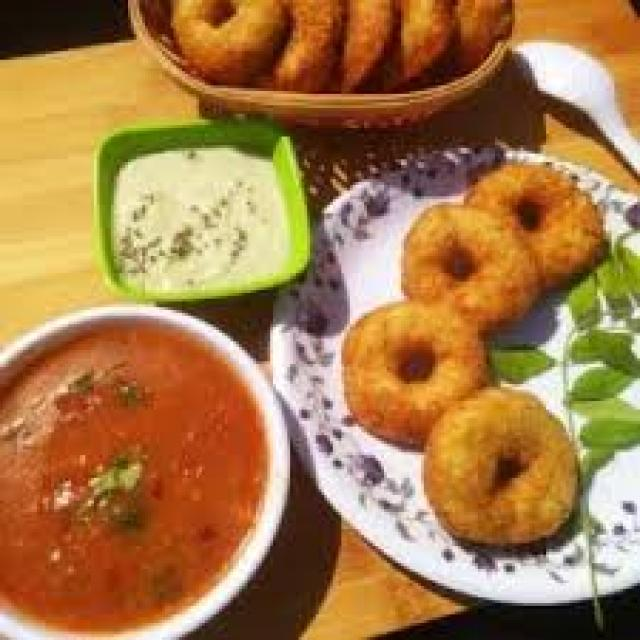MEDU VADA: (420, 391, 578, 555), (337, 306, 487, 452), (413, 198, 534, 337), (480, 164, 598, 296), (179, 0, 278, 93), (262, 0, 337, 89), (390, 1, 445, 80), (339, 3, 383, 90)
